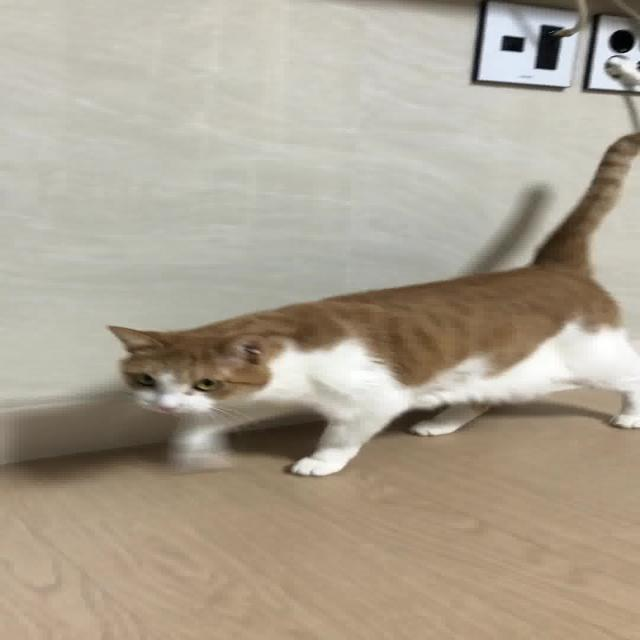cat: (97, 119, 640, 491)
